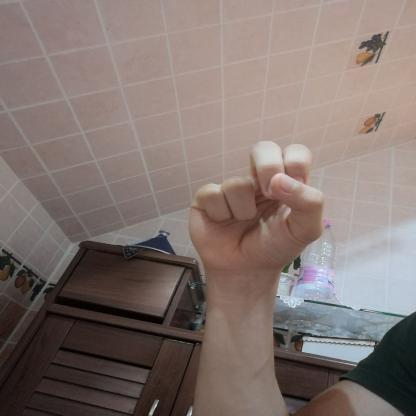QAAF: (168, 131, 346, 288)
